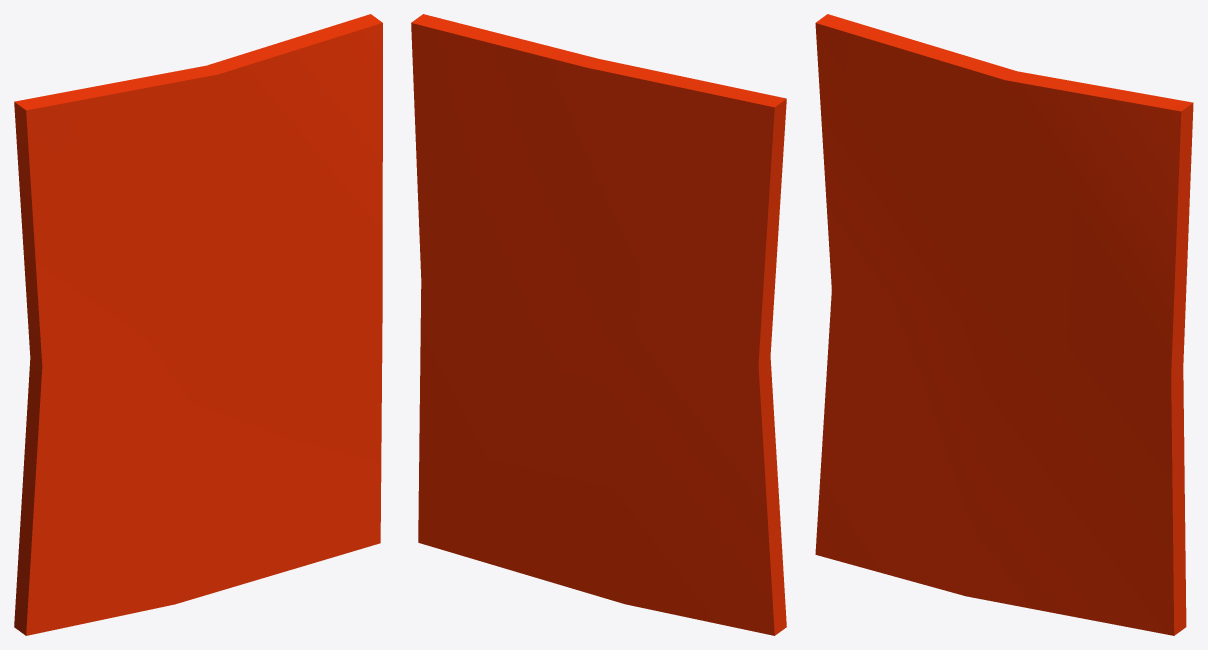
File: SkinDoorL01.FBX
3 renders of one model, left to right at view 1: azimuth 30°, elevation 25°; view 2: azimuth 150°, elevation 25°; view 3: azimuth 330°, elevation 25°, orthographic.
Visible parts, largest first — view 1: Roundhouse_SkinDoorL; view 2: Roundhouse_SkinDoorL; view 3: Roundhouse_SkinDoorL.
Part boxes in pixels (x1,y1,x2,y2): Roundhouse_SkinDoorL: (14,14,382,635); Roundhouse_SkinDoorL: (411,14,786,635); Roundhouse_SkinDoorL: (815,14,1193,635).
Bounding box in the file's own units: 2.36 × 3.33 × 0.1939.
